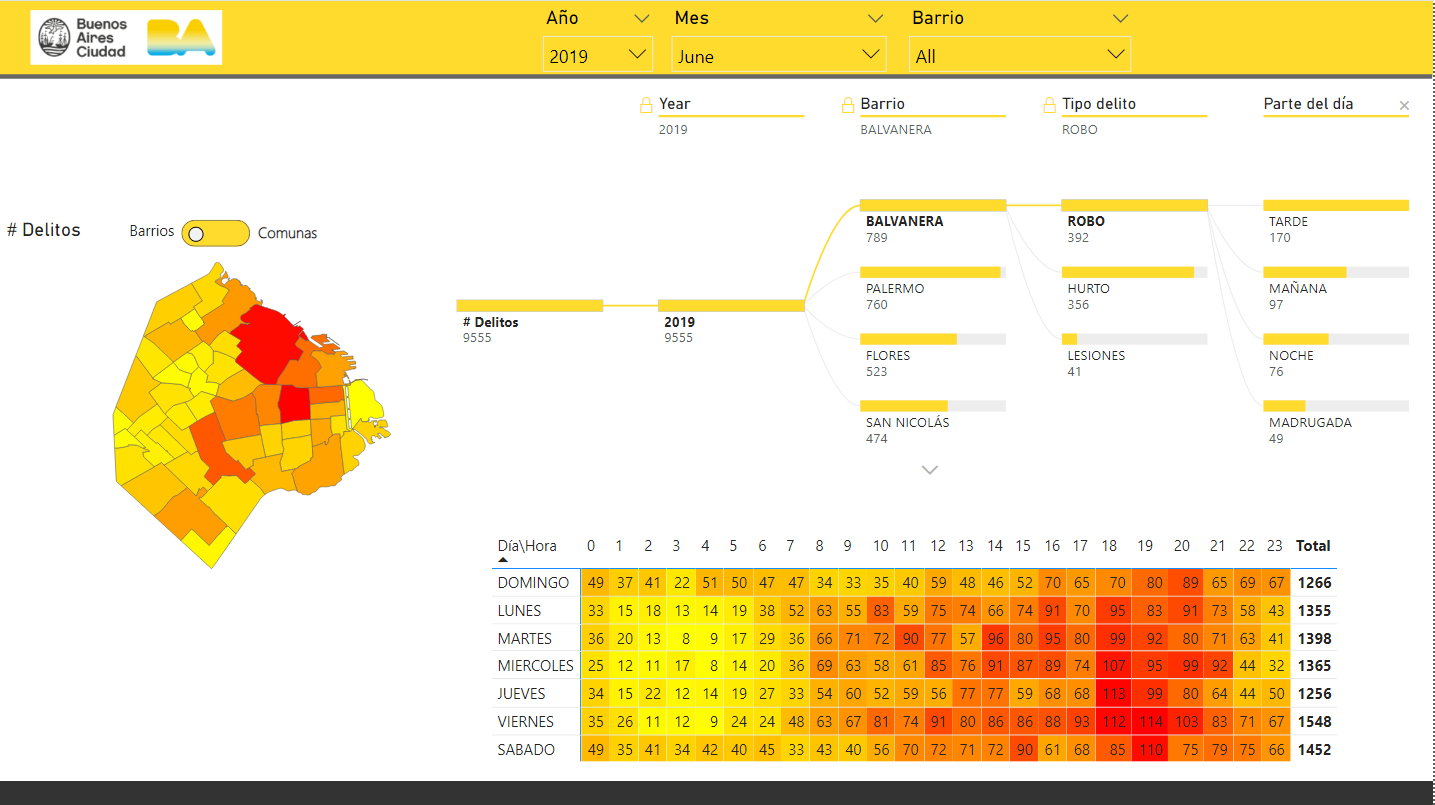

The dashboard page shown, as its layout file describes it:
{"tool":"powerbi","page":{"name":"Dashboard","canvas":[1280,720],"ordinal":0},"visuals":[{"type":"shape","box":[0,0,1280,67.3],"z":0},{"type":"shapeMap","title":"# Delitos","fields":{"Category":["db_caba delitos_historicos.barrio"],"Value":["CountNonNull(db_caba delitos_historicos.barrio)"]},"box":[1.6,194.6,447,333.2],"z":2000},{"type":"slicer","fields":{"Values":["db_caba delitos_historicos.Año"]},"box":[474.4,0,118.6,66.6],"z":3000},{"type":"slicer","fields":{"Values":["db_caba delitos_historicos.barrio"]},"box":[801.1,0,219,66.6],"z":4000},{"type":"slicer","fields":{"Values":["db_caba delitos_historicos.Mes"]},"box":[589,0,212.2,67.5],"z":5000},{"type":"decompositionTreeVisual","fields":{"Analyze":["CountNonNull(db_caba delitos_historicos.tipo_delito)"],"ExplainBy":["db_caba delitos_historicos.Año","db_caba delitos_historicos.barrio","db_caba delitos_historicos.tipo_delito","db_caba delitos_historicos.parte_dia"]},"box":[378.1,67.3,901.9,387.9],"z":6000},{"type":"actionButton","box":[162.2,194.8,61.7,24.2],"z":8000},{"type":"textbox","box":[225,191.8,72.5,33.2],"z":9000},{"type":"textbox","box":[88.6,191.4,72.6,32.7],"z":10000},{"type":"pivotTable","fields":{"Rows":["db_caba delitos_historicos.nombre_dia"],"Values":["CountNonNull(db_caba delitos_historicos.tipo_delito)"],"Columns":["db_caba delitos_historicos.franja_horaria_num"]},"box":[434.4,468.7,845.6,219],"z":11000},{"type":"shape","box":[0,697,1280.3,23],"z":12000},{"type":"image","box":[0,3.7,225.2,58.7],"z":13000},{"type":"shape","box":[0,61.7,1279.1,12.1],"z":14000}]}

Visuals, with their boxes in screenshot pixels (x1, y1, x2, y2), scaled from the page's 1280x720 canvas onto the 1435x805 screenshot:
shape: 0 0 1434 75
"# Delitos" shapeMap: 2 218 503 590
slicer - db_caba delitos_historicos.Año: 532 0 665 74
slicer - db_caba delitos_historicos.barrio: 898 0 1144 74
slicer - db_caba delitos_historicos.Mes: 660 0 898 75
decompositionTreeVisual - CountNonNull(db_caba delitos_historicos.tipo_delito) x db_caba delitos_historicos.Año: 424 75 1434 509
actionButton: 182 218 251 245
textbox: 252 214 334 252
textbox: 99 214 181 251
pivotTable - db_caba delitos_historicos.nombre_dia x CountNonNull(db_caba delitos_historicos.tipo_delito): 487 524 1434 769
shape: 0 779 1434 804
image: 0 4 252 70
shape: 0 69 1434 83
